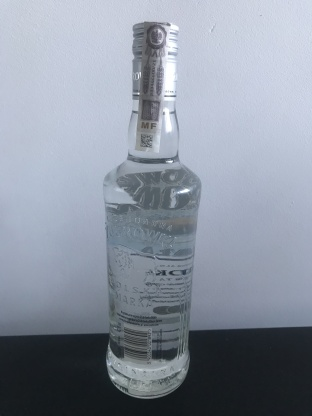nakretka: (129, 17, 181, 104)
